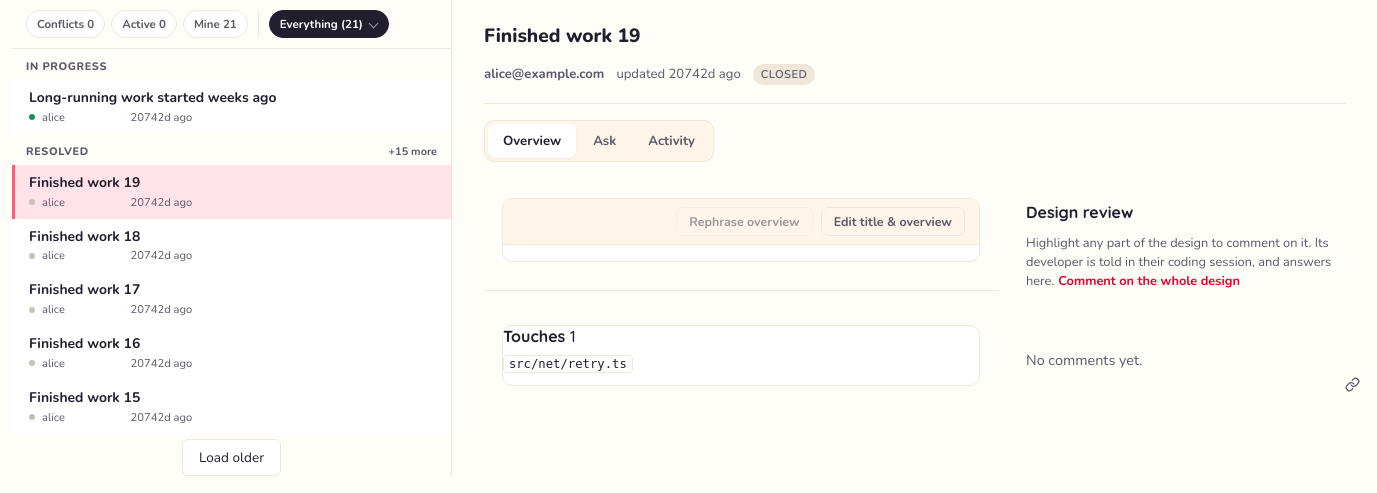
Test: WorkView (desktop baseline) › shows every active design, however far back it was created, without loading older history
The width and height of the screenshot is (1377, 493).
Select "Dormant (1)" in the dropdown named "Finished work": coordinates (329, 24) top-left (270, 11), bottom-right (388, 37)
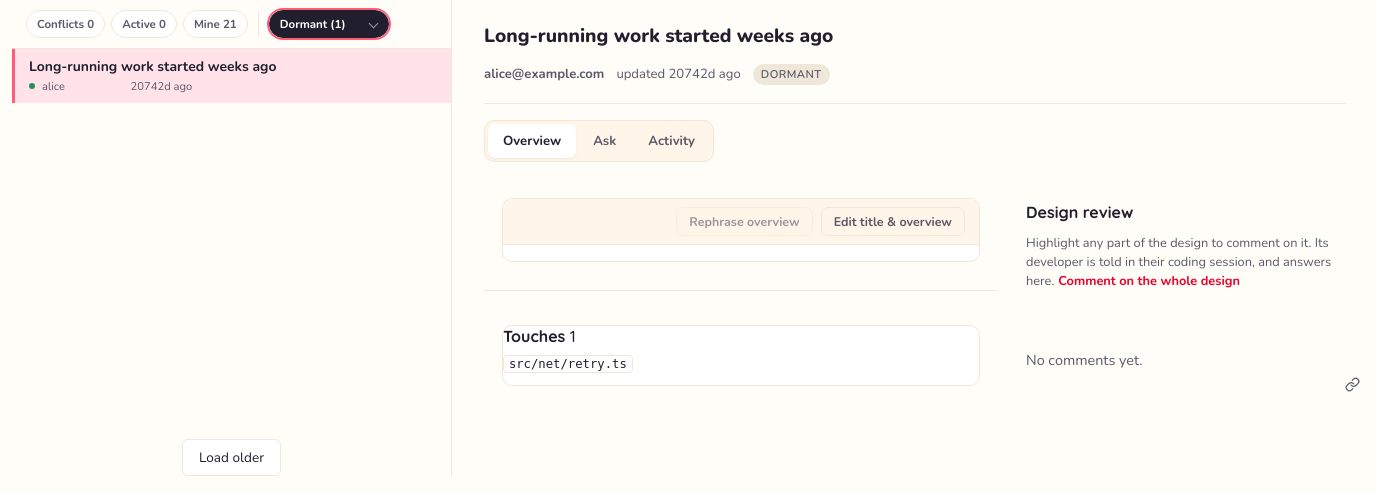
Expected: the element with class "work-pane-list" shows "Long-running work started weeks ago", top-left (12, 49), bottom-right (451, 103)
Click the button "Active 0": coordinates (144, 24) top-left (111, 10), bottom-right (177, 38)
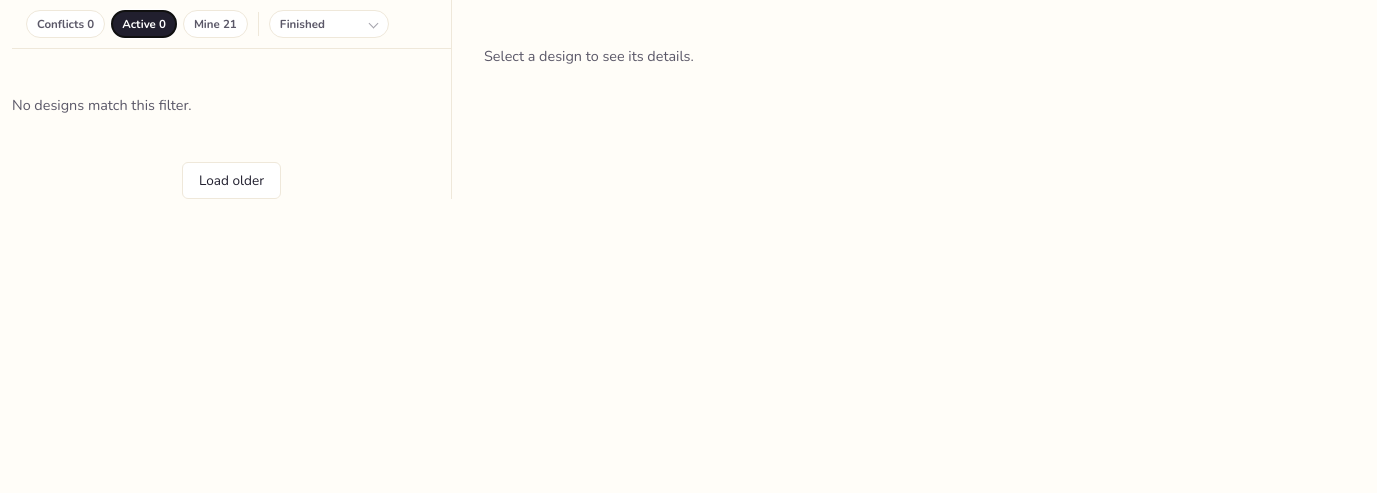
Expected: the element with class "work-pane-list" no longer shows "Long-running work started weeks ago", top-left (12, 0), bottom-right (452, 199)
